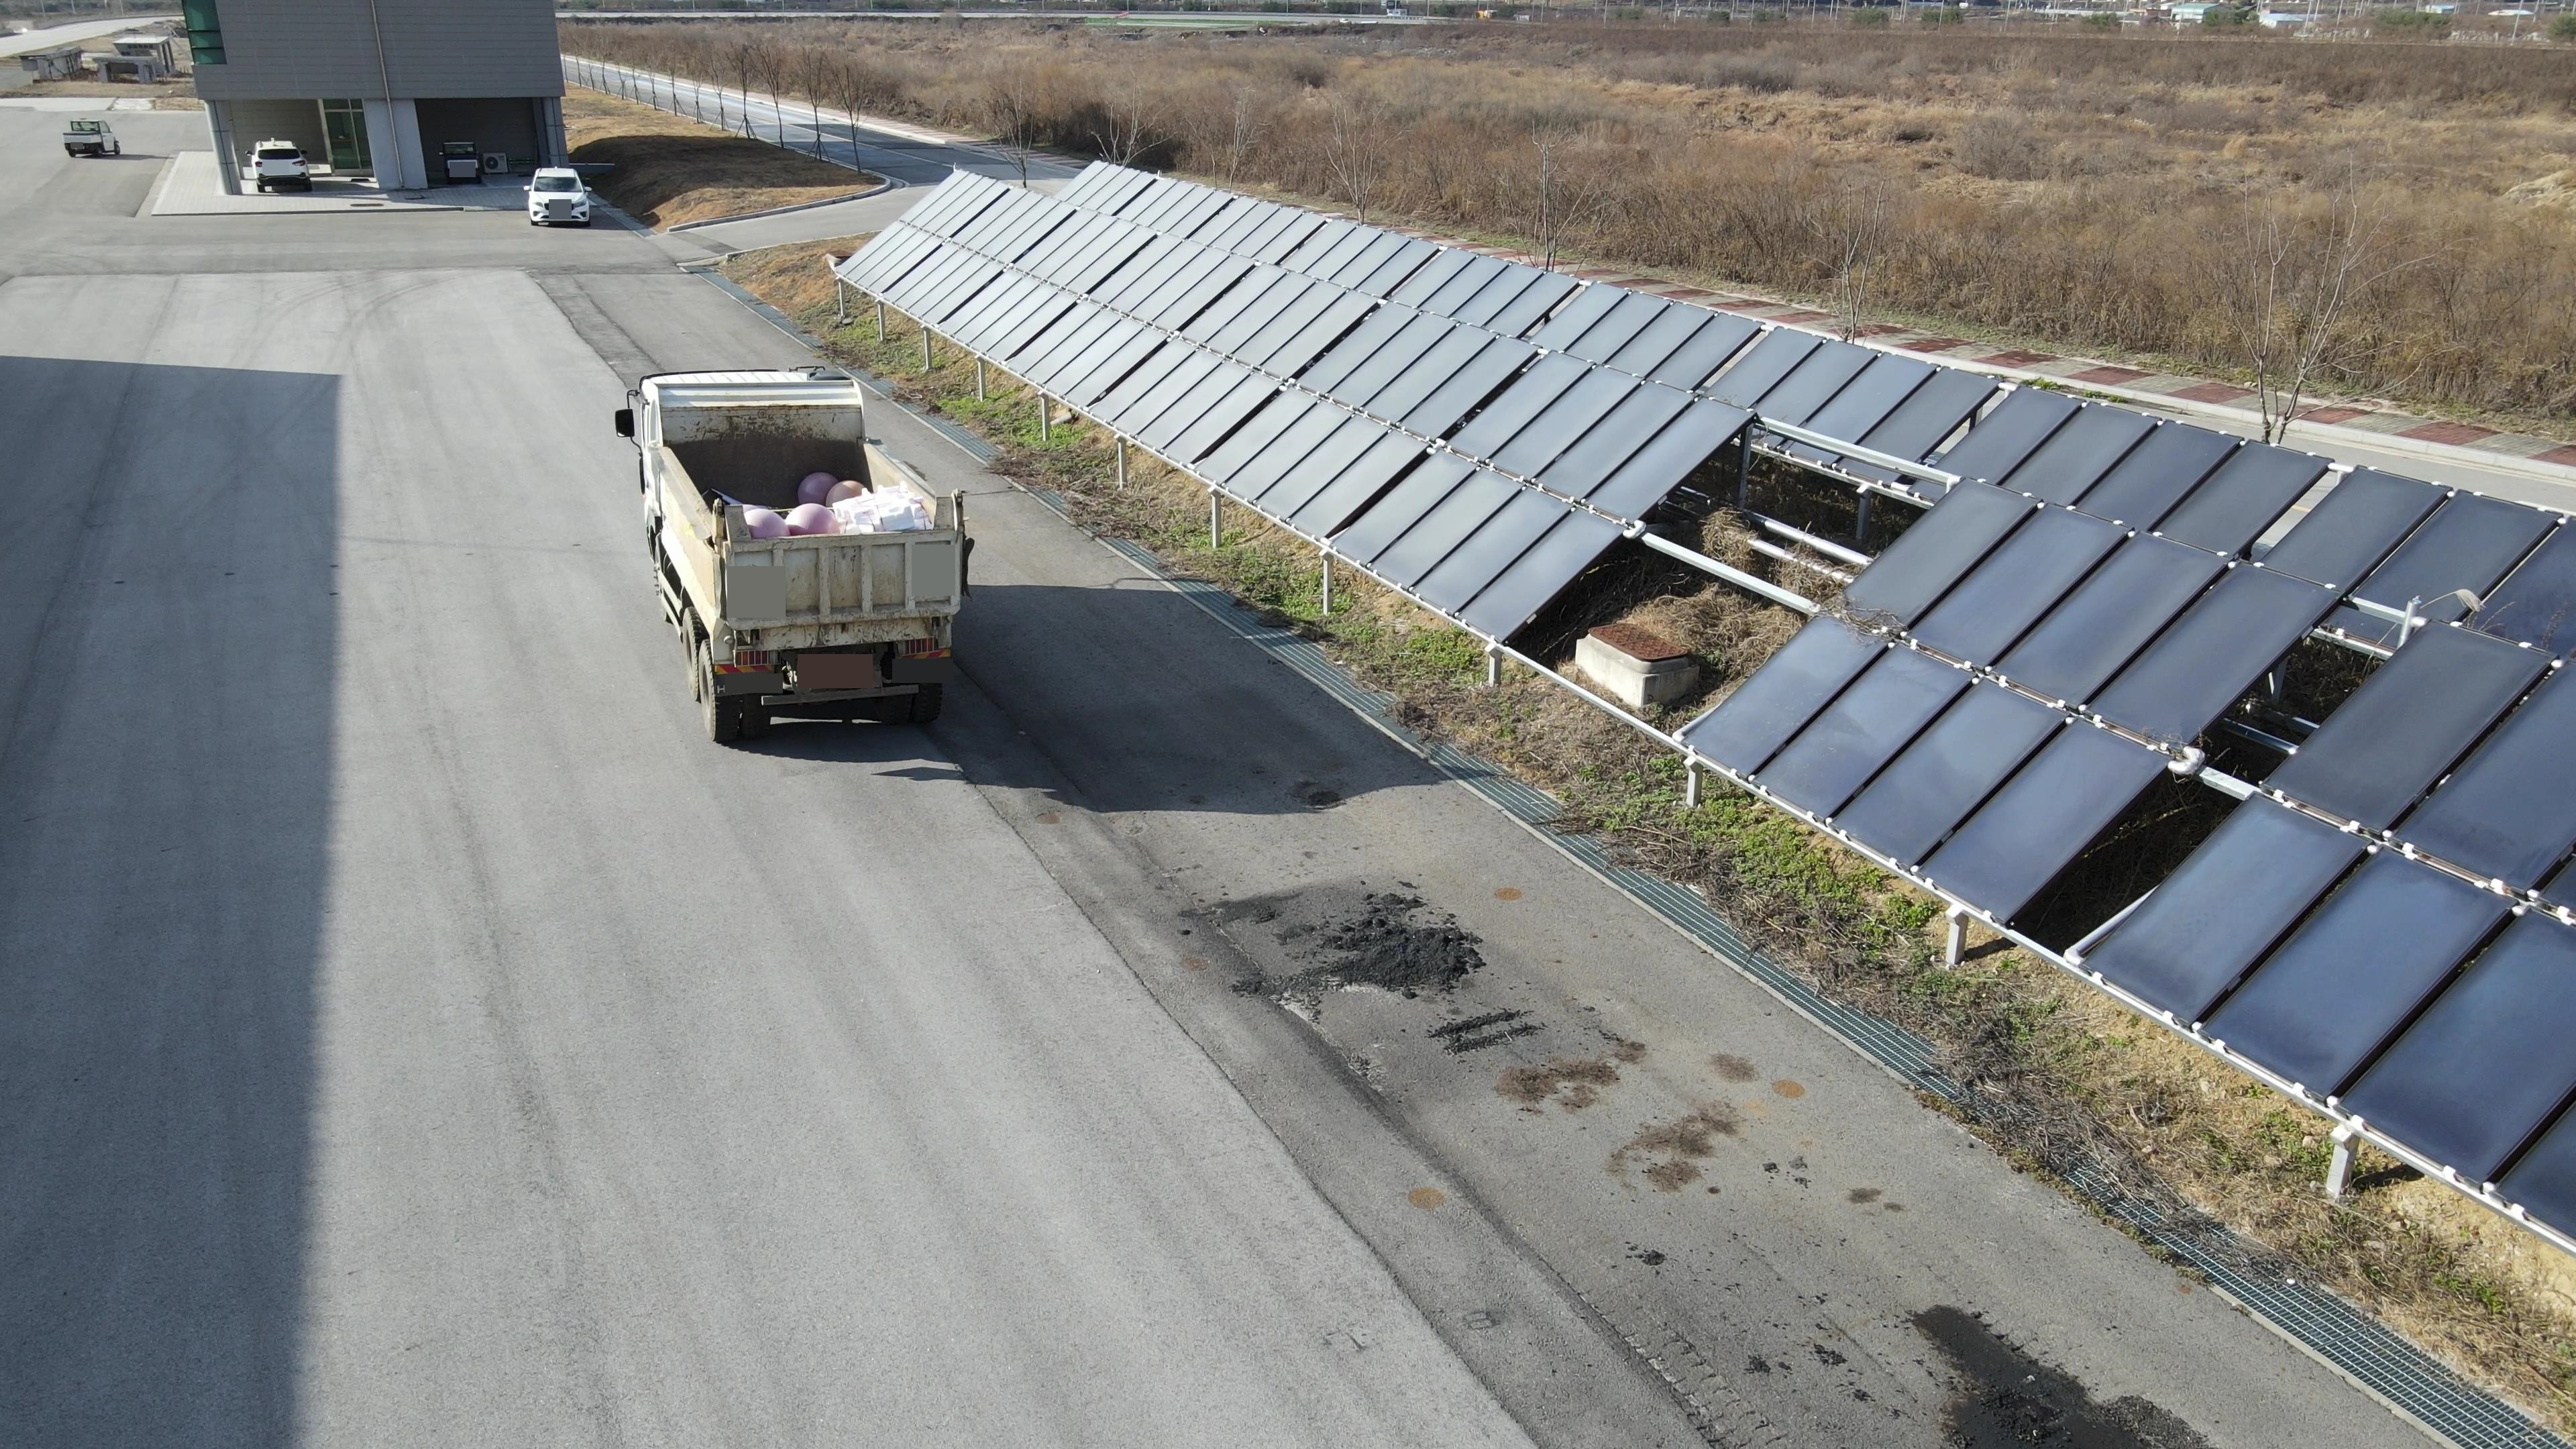불법차량: (614, 364, 974, 746)
